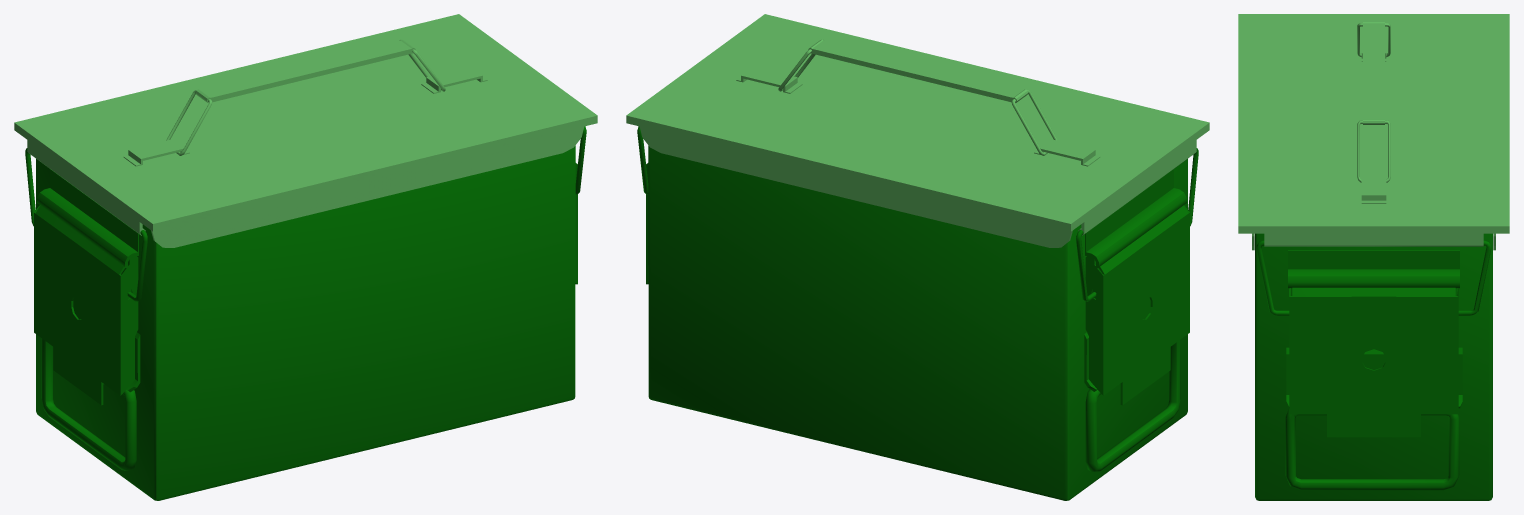
Rendered from ammobox.fbx.
The picture shows the model from 3 angles, left to right: view 1: azimuth 30°, elevation 25°; view 2: azimuth 150°, elevation 25°; view 3: azimuth 270°, elevation 25°; orthographic projection. The views are drawn at different scales.
Visible parts, largest first — view 1: pCube2, pCube18, pCube13; view 2: pCube2, pCube18, pCube13; view 3: pCube18, pCube13, pCube2.
Part boxes in pixels (<box>): pCube2: <box>36,145,575,500</box>; pCube18: <box>14,14,597,247</box>; pCube13: <box>25,126,586,470</box>; pCube2: <box>648,145,1187,500</box>; pCube18: <box>626,14,1209,247</box>; pCube13: <box>637,126,1198,471</box>; pCube18: <box>1238,14,1509,250</box>; pCube13: <box>1256,240,1491,490</box>; pCube2: <box>1255,233,1492,500</box>.
Bounding box in the file's own units: 200 × 142 × 105.
